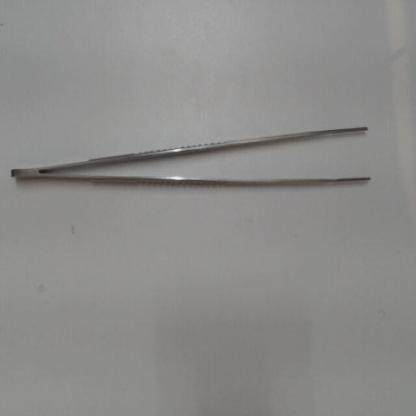DeBakey Dissector: (0, 103, 393, 204)
